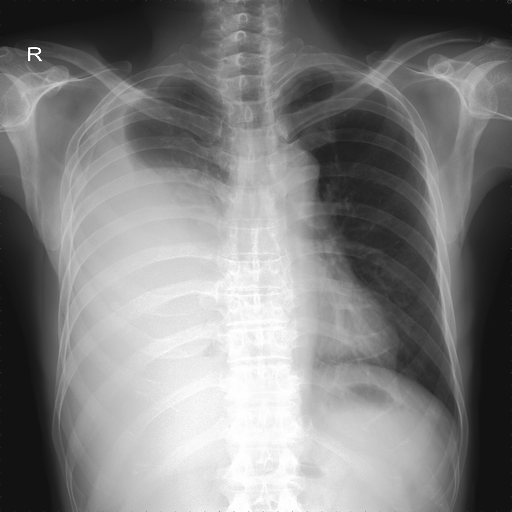ILD: (126, 133, 216, 216)
Pleural effusion: (71, 68, 228, 396)
Pleural thickening: (166, 143, 221, 226)
